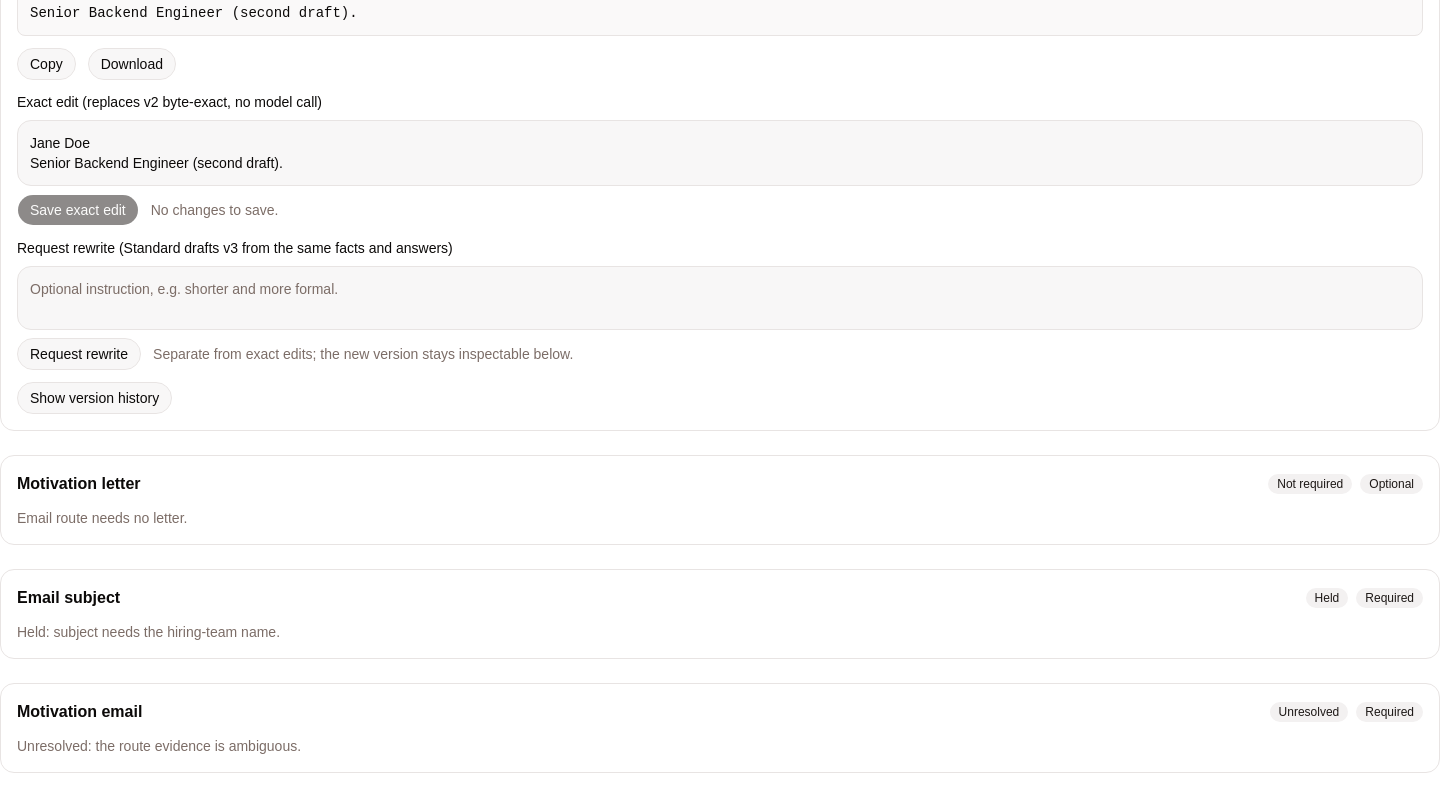
Test: ArtifactsSection › opens version history GET-only and copies the shown previous version
This screenshot has width=1440, height=791.
(page scrolled)
Click the button "Show version history" at (95, 398), box [17,382,172,414]
(page scrolled)
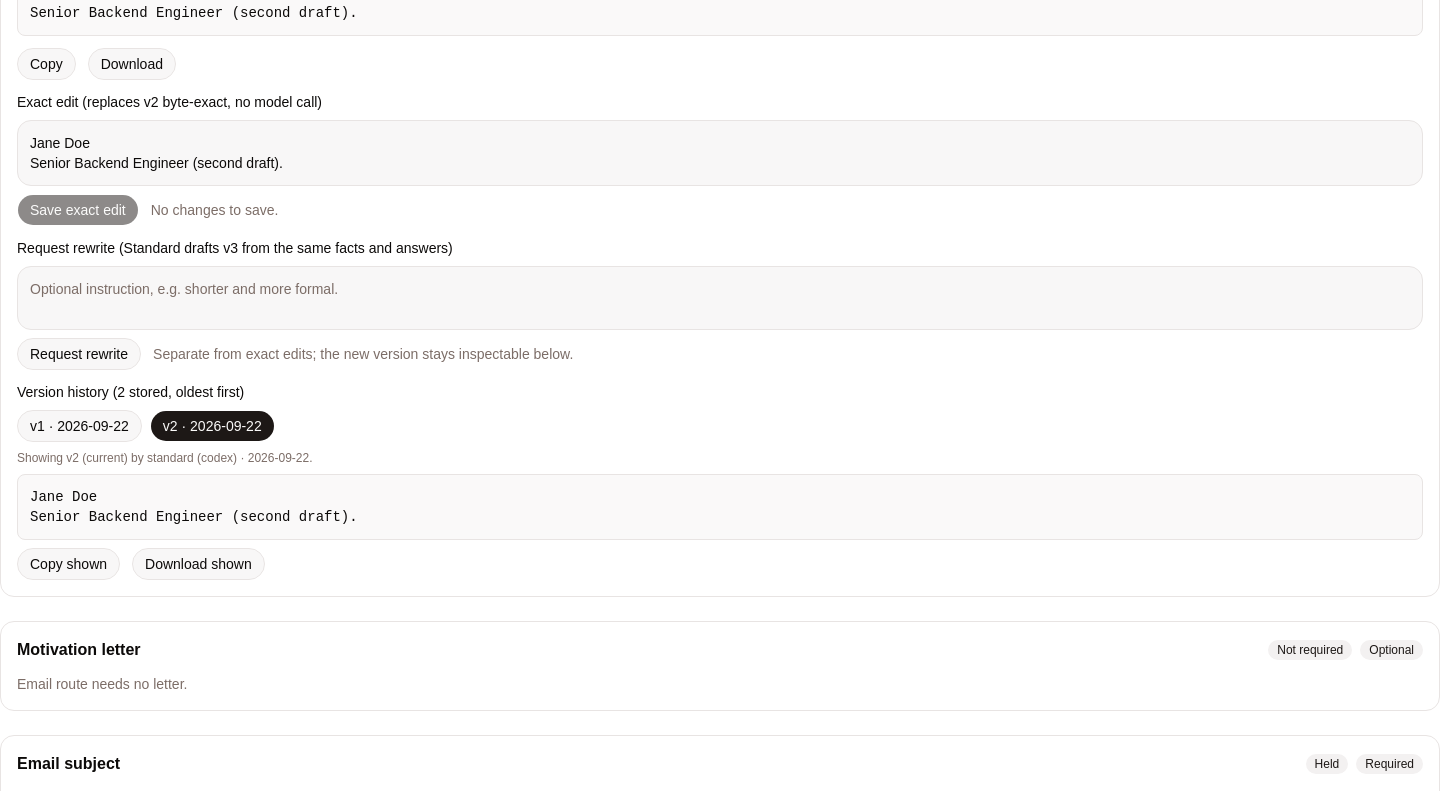
Expected: the text "Version history (2 stored, oldest first)" is shown, [17,384,244,400]
Click the button named "Show Tailored CV v1" at (79, 426), box [17,410,142,442]
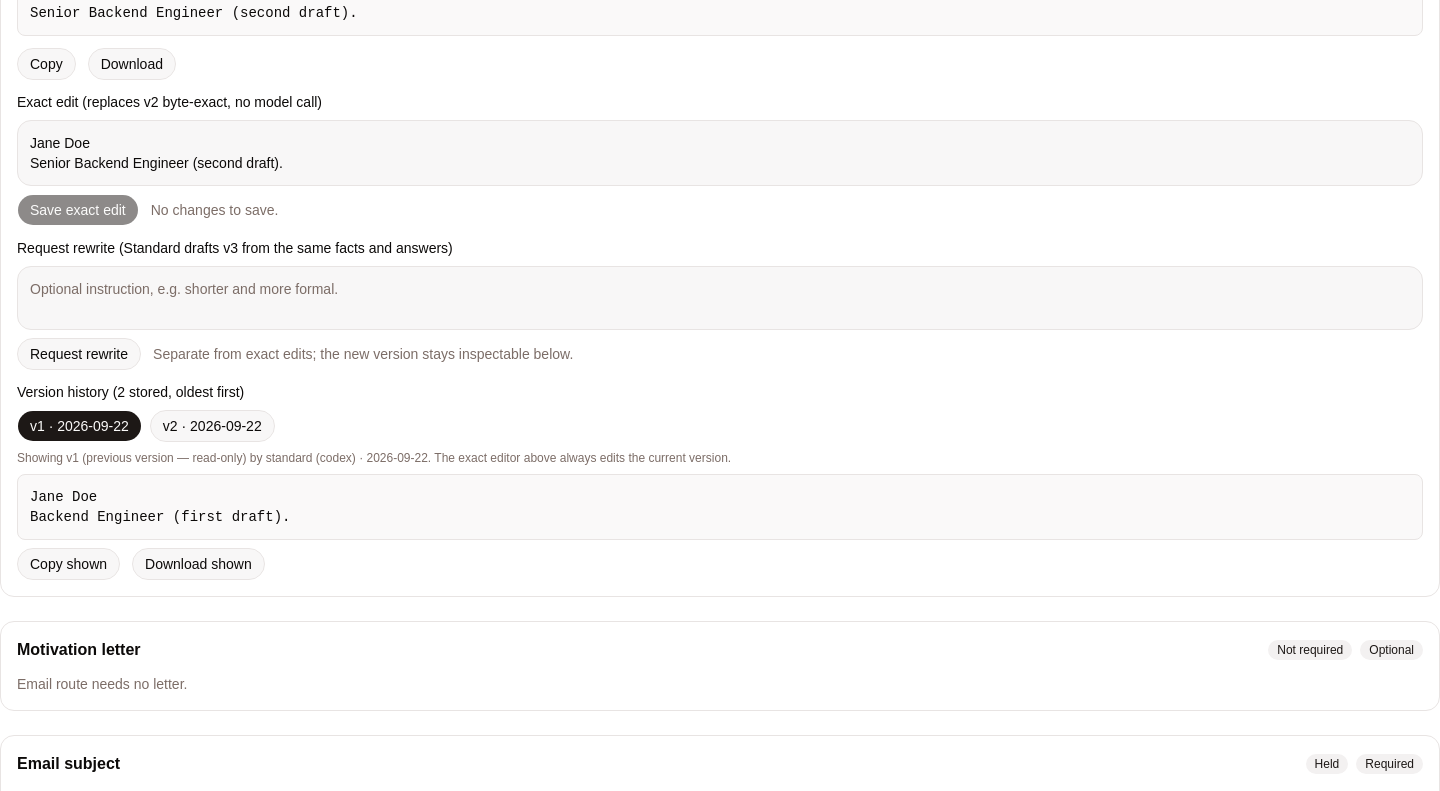
Expected: the text "Showing v1 (previous version — read-only)" is shown, [17,451,731,465]
Click the button with aria-label "Copy shown Tailored CV v1" at (68, 564), box [17,548,120,580]
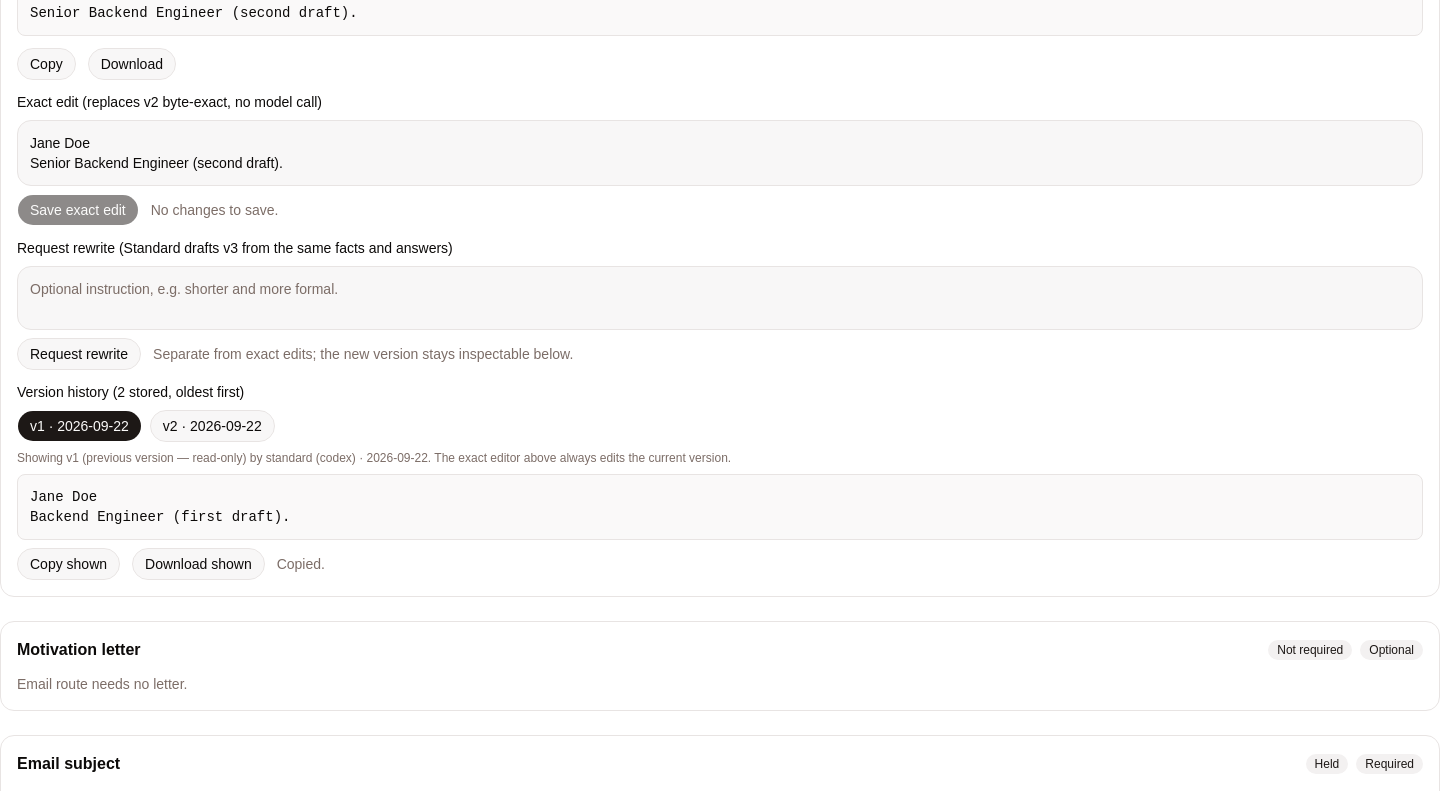
Expected: the text "Copied." is shown, [277,554,325,574]
